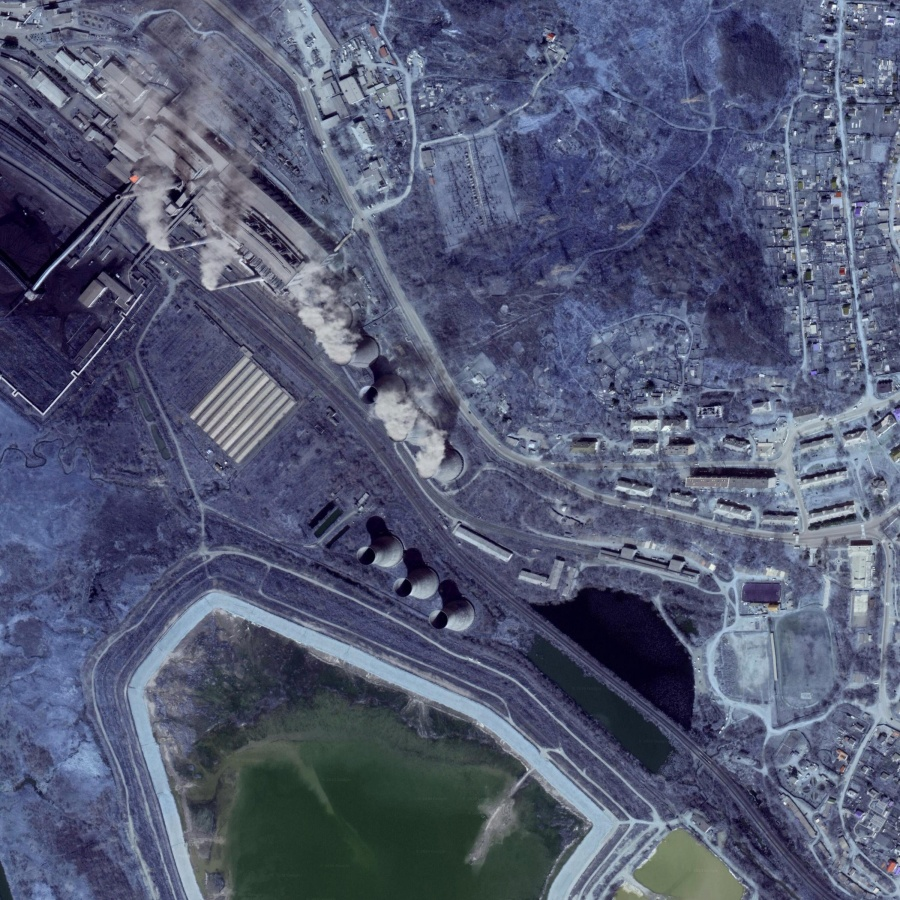PowerPlant: (295, 271, 509, 644)
